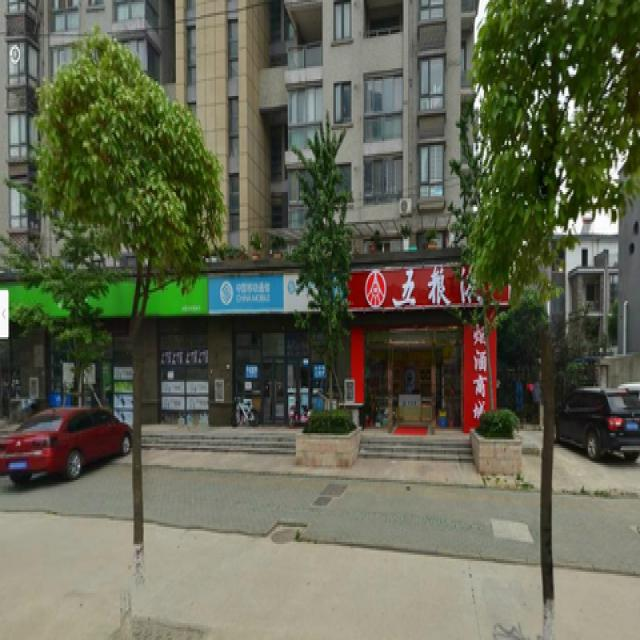cinn: (488, 4, 612, 585), (61, 49, 178, 593)
